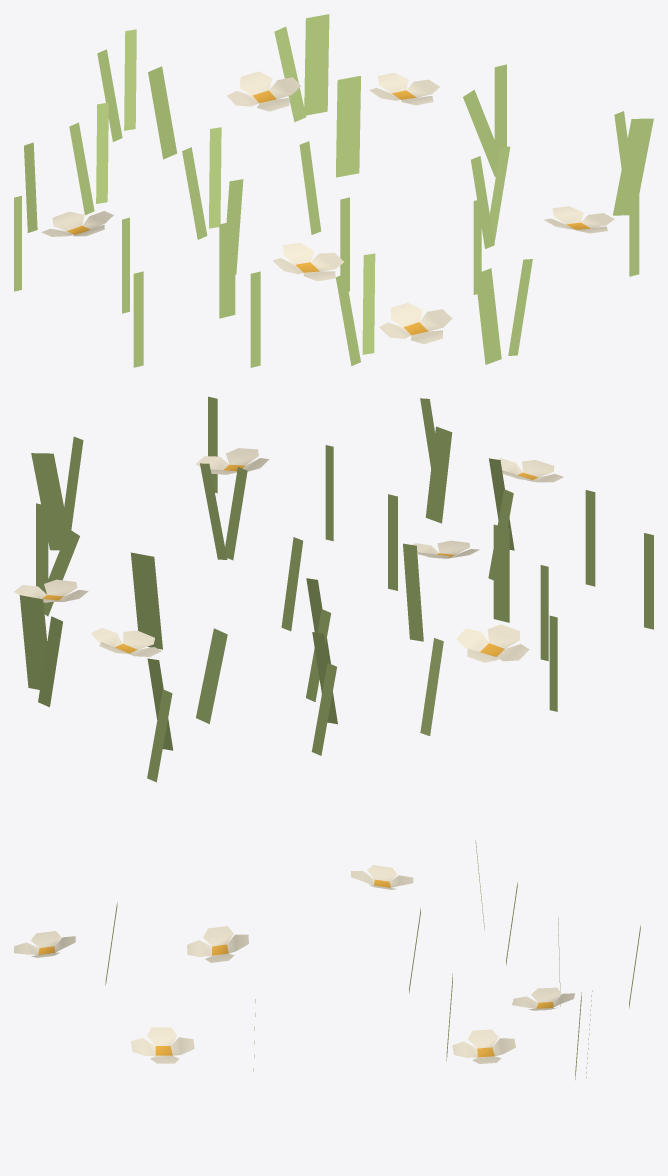
File: M_Plants_Flowers_7.fbx
3 views of the same model, one above another, from view 1: azimuth 30°, elevation 25°; view 2: azimuth 150°, elevation 25°; view 3: azimuth 270°, elevation 25° (orthographic). The views are drawn at different scales.
Visible parts, largest first — view 1: M_Plants_Flowers_7; view 2: M_Plants_Flowers_7; view 3: M_Plants_Flowers_7.
Part boxes in pixels (<box>): M_Plants_Flowers_7: <box>14,14,653,367</box>; M_Plants_Flowers_7: <box>14,396,653,782</box>; M_Plants_Flowers_7: <box>14,840,640,1079</box>.
Size of the model in its own units: 1.46 by 0.277 by 1.53.
